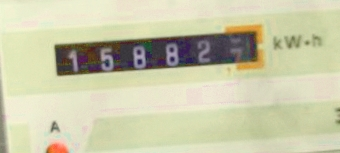1: (66, 47, 81, 73)
2: (195, 38, 212, 62)
5: (97, 44, 115, 71)
7: (229, 44, 244, 63)
8: (130, 43, 148, 70), (163, 41, 180, 66)
screen: (38, 15, 275, 92)
